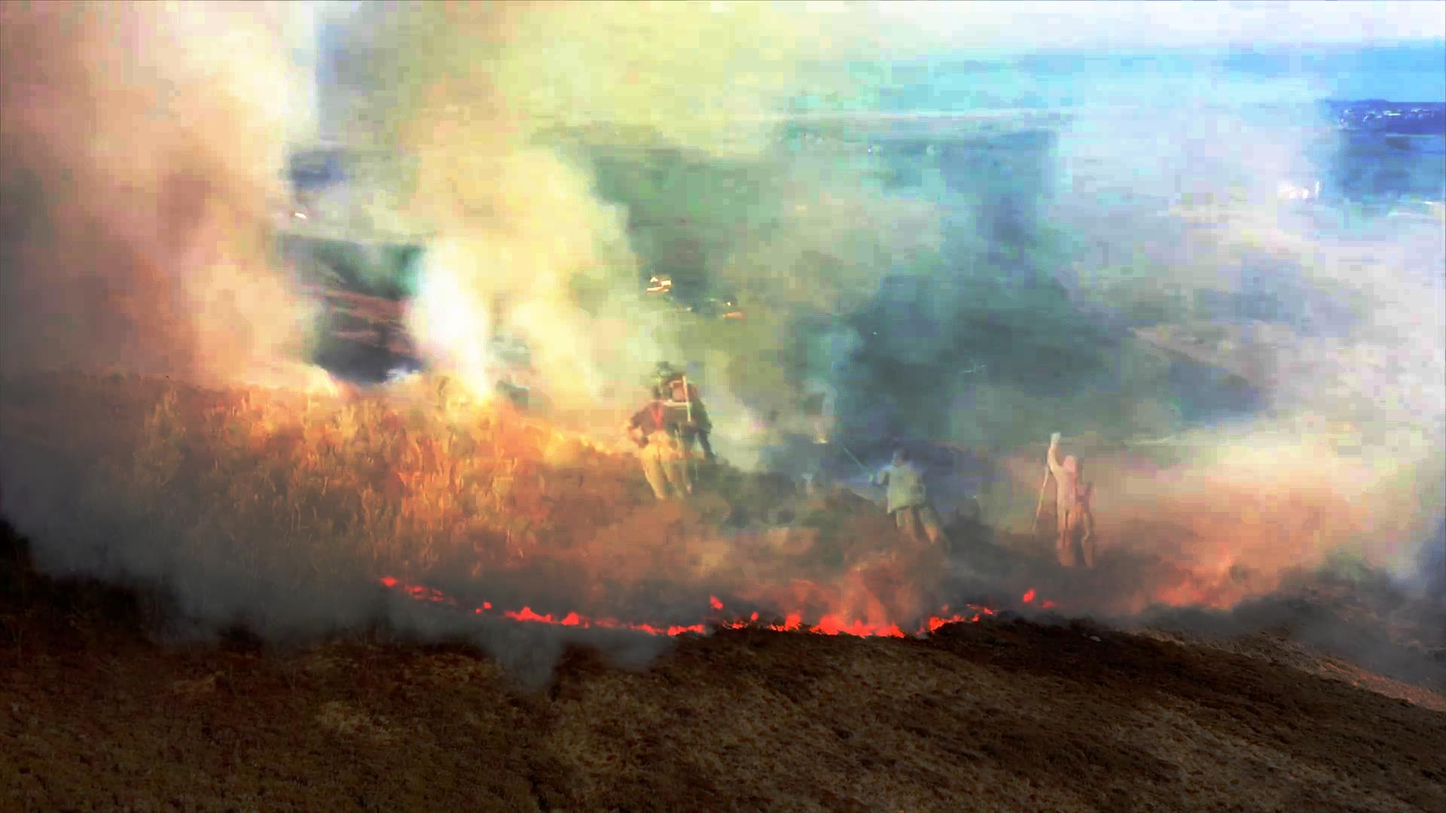smoke: (0, 0, 260, 394), (422, 8, 689, 388), (1232, 169, 1446, 554)
